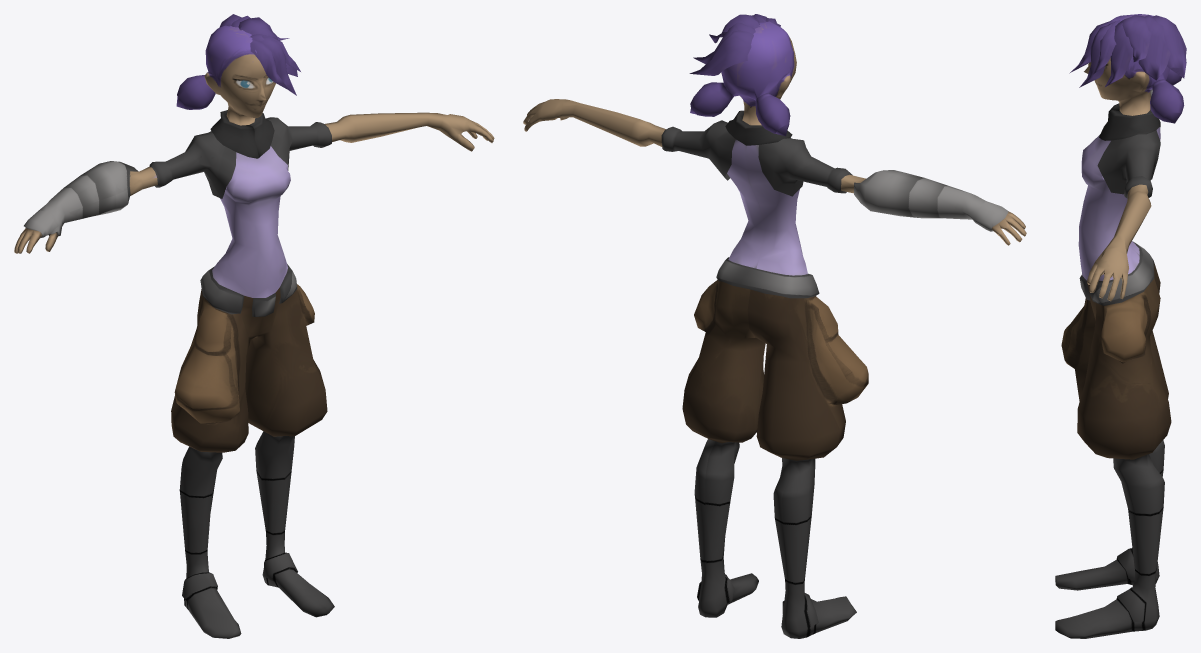
The model's file is player8_SEP_char.fbx.
3 renders of one model, left to right at view 1: azimuth 30°, elevation 25°; view 2: azimuth 150°, elevation 25°; view 3: azimuth 270°, elevation 25°, orthographic. The views are drawn at different scales.
Visible parts, largest first — view 1: polySurface32, polySurface40, polySurface14, polySurface34, polySurface53, polySurface42, polySurface27, polySurface45, polySurface54, polySurface26, polySurface16, polySurface21 (+8 smaller); view 2: polySurface32, polySurface40, polySurface14, polySurface42, polySurface34, polySurface27, polySurface54, polySurface45, polySurface26, polySurface53, polySurface36, polySurface21 (+9 smaller); view 3: polySurface40, polySurface42, polySurface14, polySurface44, polySurface32, polySurface16, polySurface22, polySurface54, polySurface20, polySurface53, polySurface36, polySurface45 (+13 smaller).
Boxes of the visible parts, bbox=[...] form: polySurface32: bbox=[171, 289, 250, 452]; polySurface40: bbox=[245, 284, 327, 436]; polySurface14: bbox=[176, 25, 275, 117]; polySurface34: bbox=[179, 446, 222, 576]; polySurface53: bbox=[220, 146, 290, 224]; polySurface42: bbox=[255, 431, 294, 559]; polySurface27: bbox=[46, 161, 138, 226]; polySurface45: bbox=[212, 235, 287, 297]; polySurface54: bbox=[200, 264, 297, 339]; polySurface26: bbox=[129, 136, 218, 195]; polySurface16: bbox=[210, 103, 274, 158]; polySurface21: bbox=[337, 112, 428, 142]; polySurface32: bbox=[756, 293, 868, 460]; polySurface40: bbox=[682, 279, 765, 443]; polySurface14: bbox=[690, 21, 796, 136]; polySurface42: bbox=[694, 439, 739, 587]; polySurface34: bbox=[773, 458, 815, 604]; polySurface27: bbox=[854, 170, 975, 219]; polySurface54: bbox=[716, 257, 819, 343]; polySurface45: bbox=[728, 221, 807, 275]; polySurface26: bbox=[767, 140, 865, 193]; polySurface53: bbox=[727, 139, 799, 205]; polySurface36: bbox=[781, 591, 850, 638]; polySurface21: bbox=[573, 103, 654, 146]; polySurface40: bbox=[1077, 278, 1171, 459]; polySurface42: bbox=[1113, 454, 1164, 602]; polySurface14: bbox=[1084, 14, 1184, 123]; polySurface44: bbox=[1078, 587, 1159, 638]; polySurface32: bbox=[1061, 298, 1168, 400]; polySurface16: bbox=[1099, 91, 1160, 140]; polySurface22: bbox=[1087, 235, 1129, 301]; polySurface54: bbox=[1079, 241, 1160, 319]; polySurface20: bbox=[1116, 141, 1160, 198]; polySurface53: bbox=[1081, 127, 1160, 205]; polySurface36: bbox=[1075, 549, 1159, 590]; polySurface45: bbox=[1078, 226, 1139, 280].
Size of the model in its own units: 175 by 202 by 40.35.
1 material, 1 textured.
